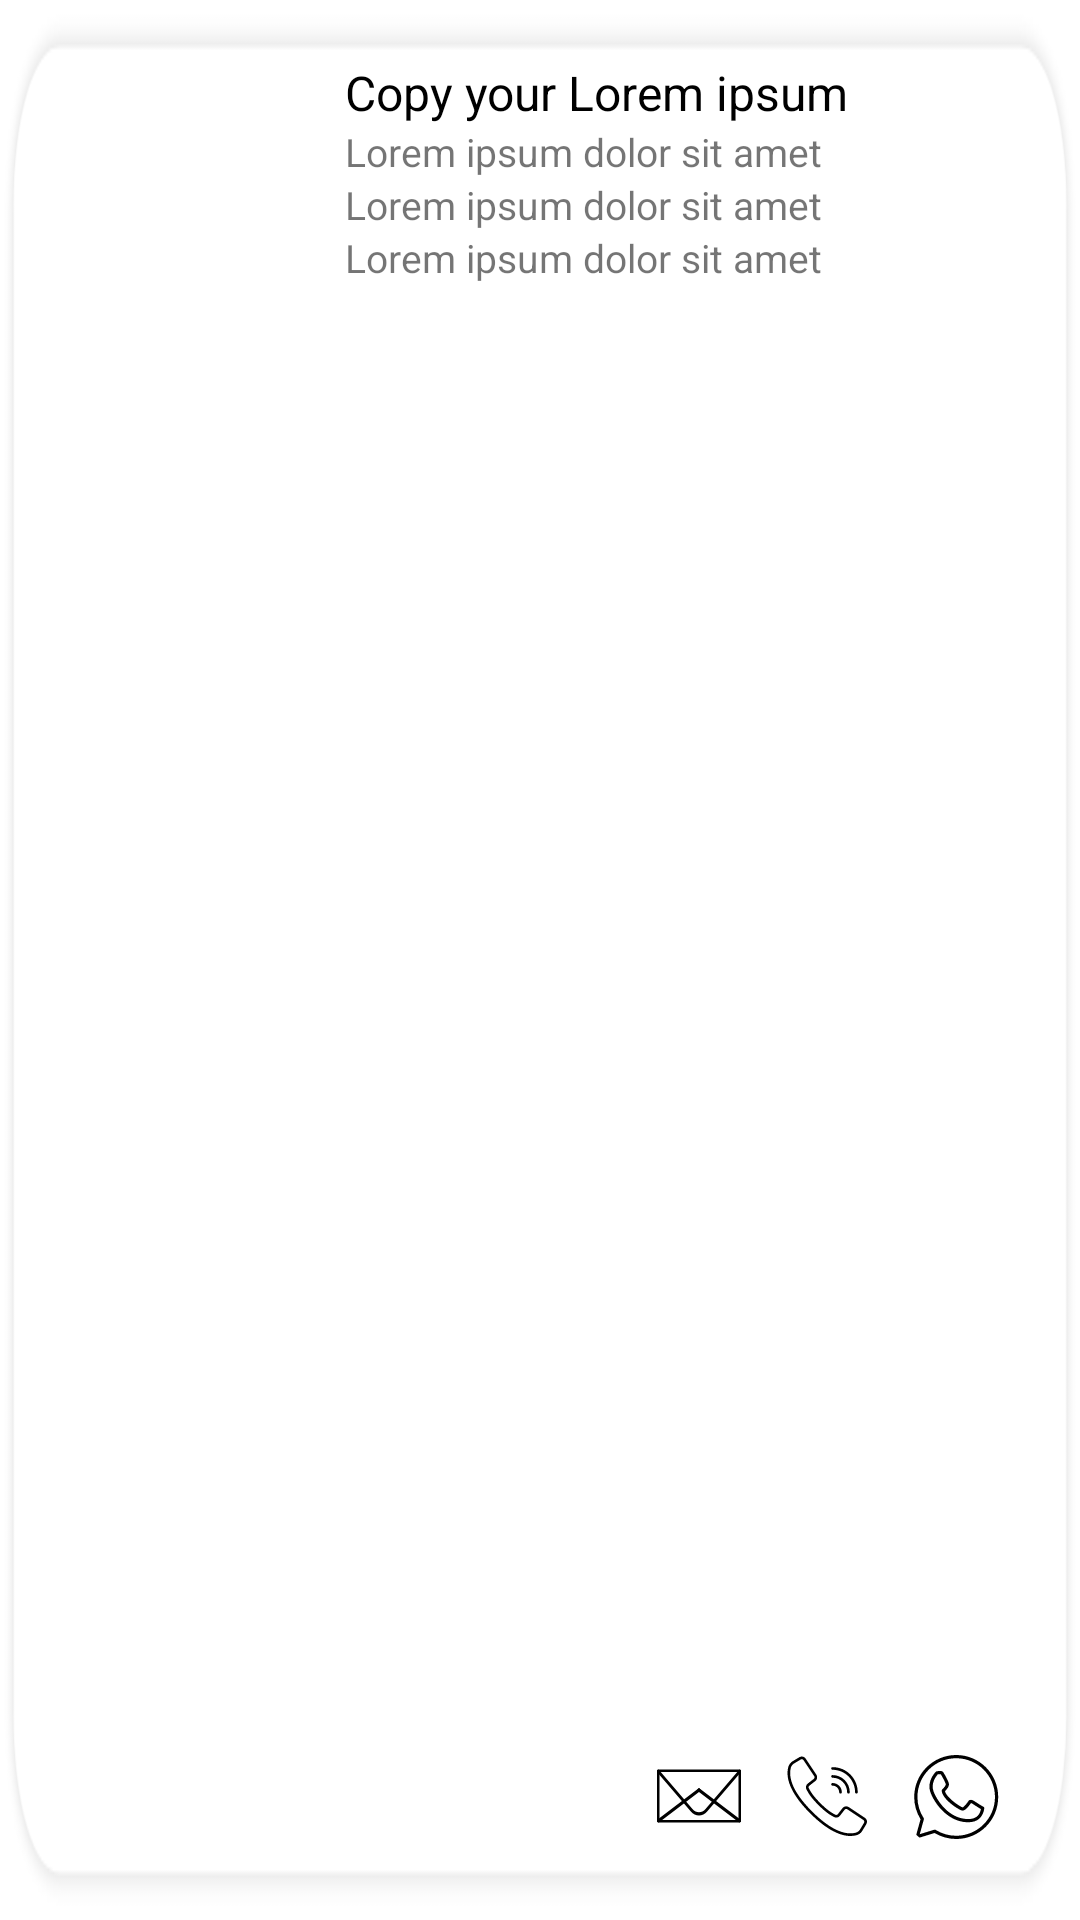

Icons on this 1080w x 1920h Android screen, each with its box as (x1, y1, x2, y2):
call: (787, 1756, 867, 1836)
mail: (657, 1769, 741, 1823)
